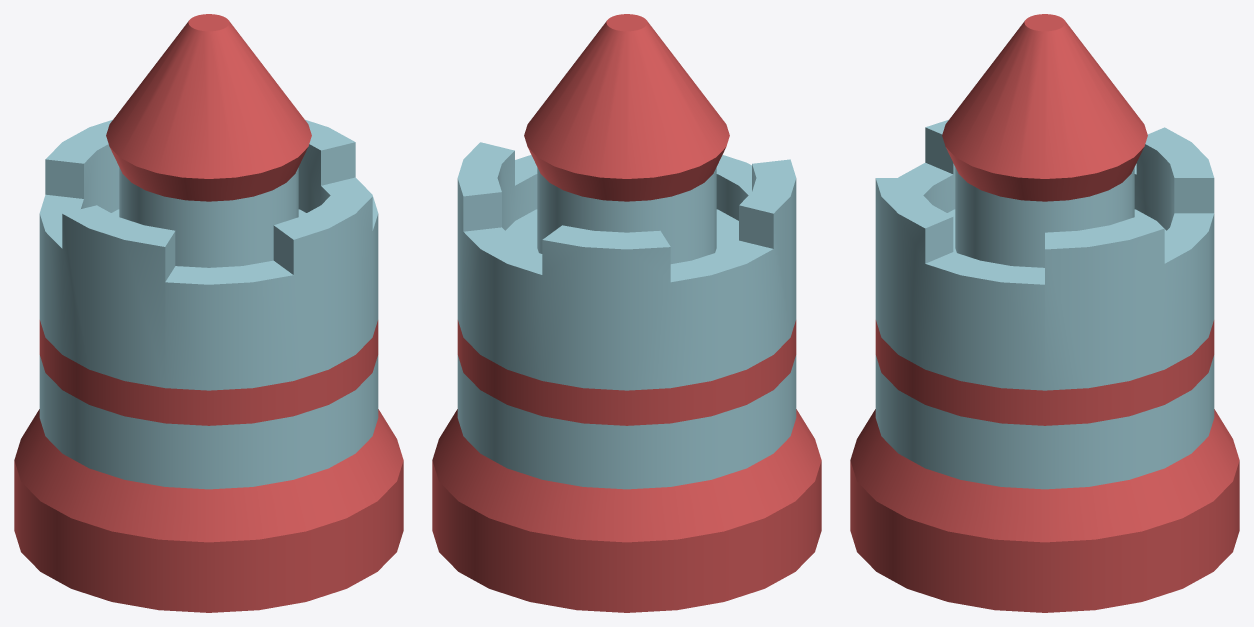
Rendered from towerRound_sampleD.fbx.
3 views of the same model, side by side, from view 1: azimuth 30°, elevation 25°; view 2: azimuth 150°, elevation 25°; view 3: azimuth 270°, elevation 25° (orthographic).
Parts seen in each view (by area): view 1: towerRound_sampleD; view 2: towerRound_sampleD; view 3: towerRound_sampleD.
Boxes of the visible parts, box(x1,y1,x2,y2) form: towerRound_sampleD: box(14, 14, 403, 612); towerRound_sampleD: box(432, 14, 821, 612); towerRound_sampleD: box(850, 14, 1239, 612).
Size of the model in its own units: 10 by 14.4 by 10.
